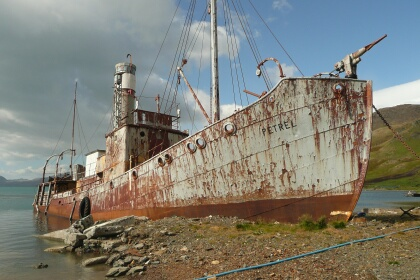rust: (194, 195, 350, 221), (327, 84, 369, 172), (98, 191, 165, 218)
